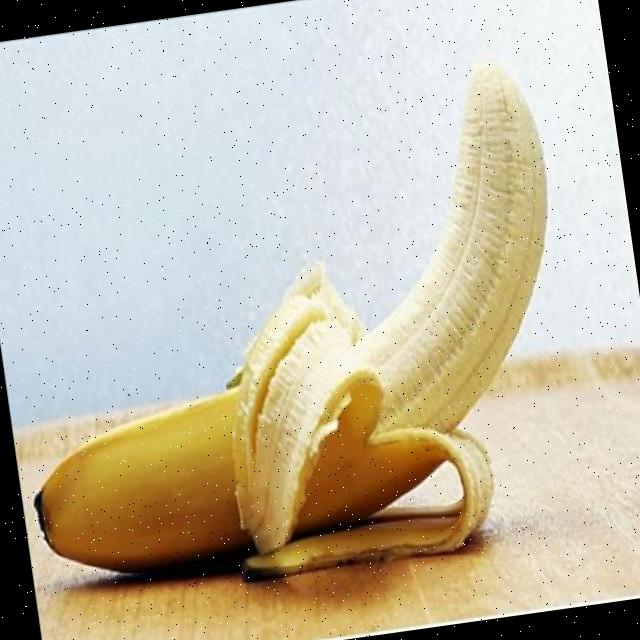banana-peel: (0, 53, 598, 609)
